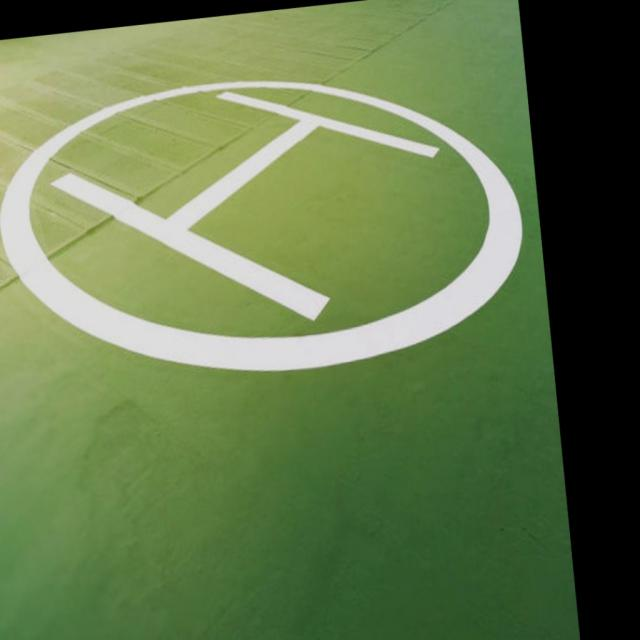helipad: (0, 74, 531, 380)
